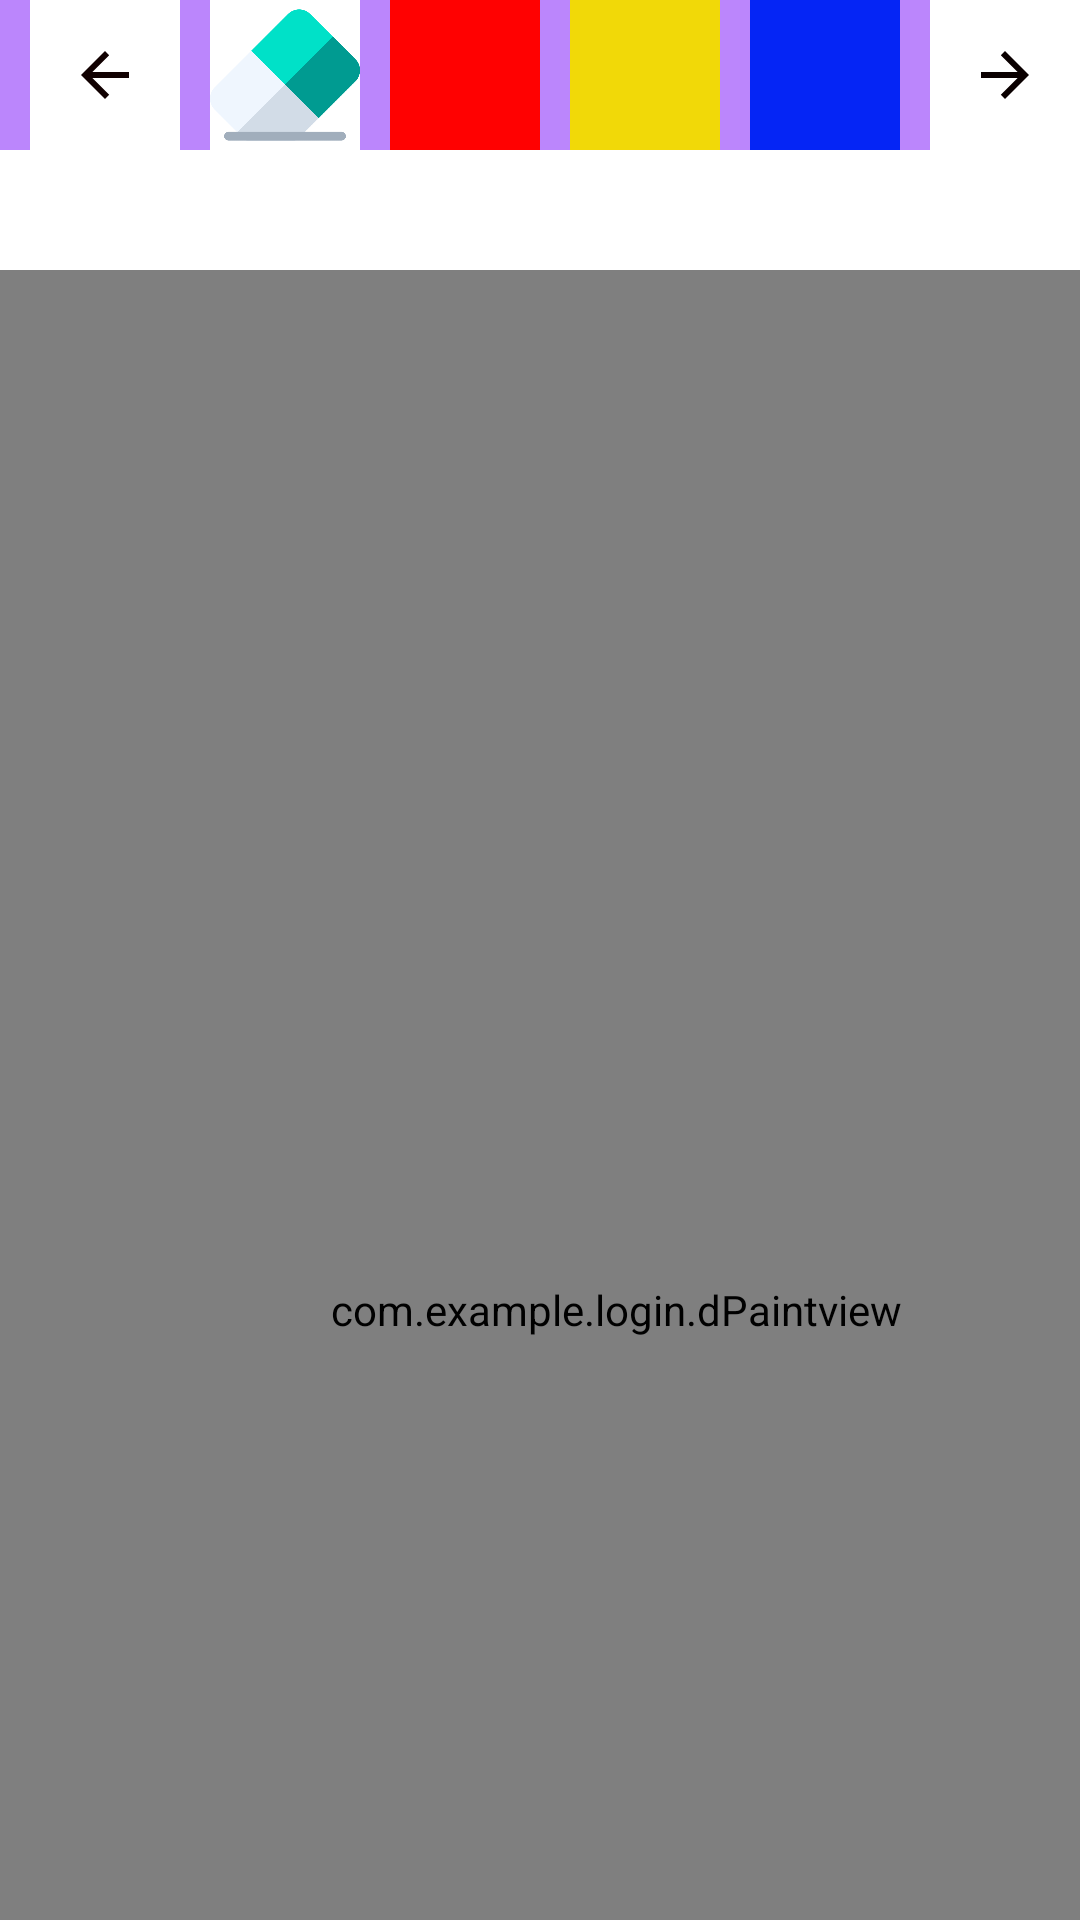

Locate icon controls on the screen. Image size 1080*1920, boxes as (x1, y1, x2, y2).
eraser: (224, 9, 360, 141)
